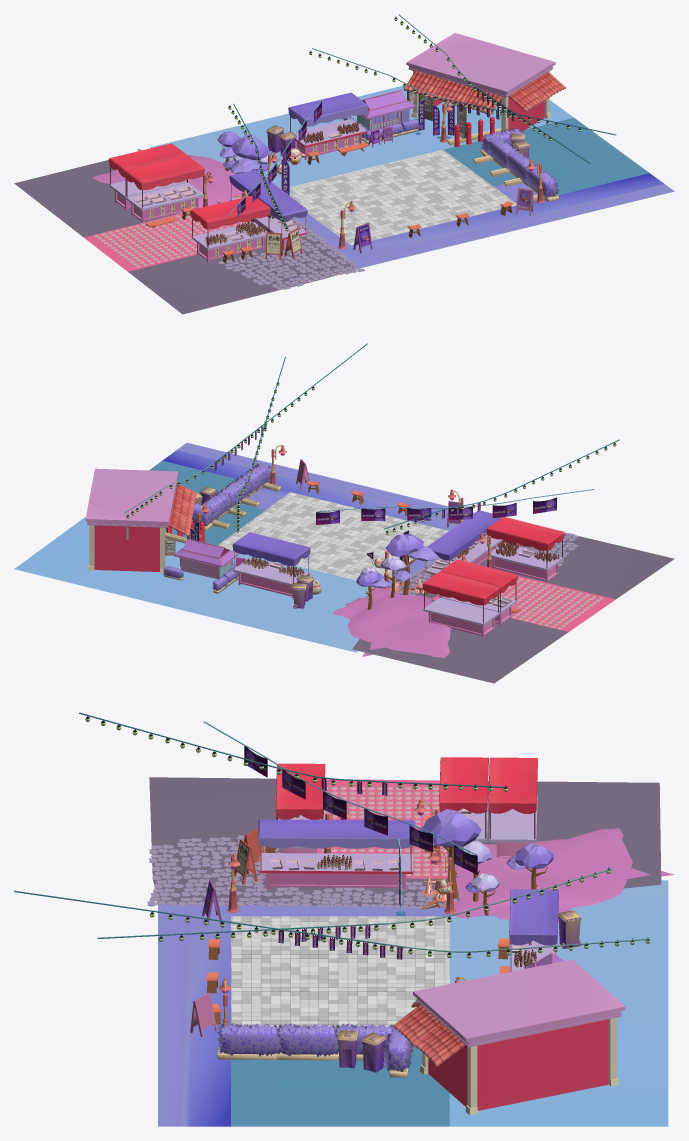
File: suishinads envio 01 10.fbx
3 views of the same model, one above another, from view 1: azimuth 30°, elevation 25°; view 2: azimuth 150°, elevation 25°; view 3: azimuth 270°, elevation 25° (orthographic). The views are drawn at different scales.
Visible parts, largest first — view 1: Enivronment; view 2: Enivronment; view 3: Enivronment.
Part boxes in pixels (x1,y1,x2,y2): Enivronment: [14, 14, 674, 314]; Enivronment: [14, 343, 674, 683]; Enivronment: [14, 712, 674, 1126].
Bounding box in the file's own units: 4880 × 953 × 3904.
Materials: 3 (2 with a texture image).
